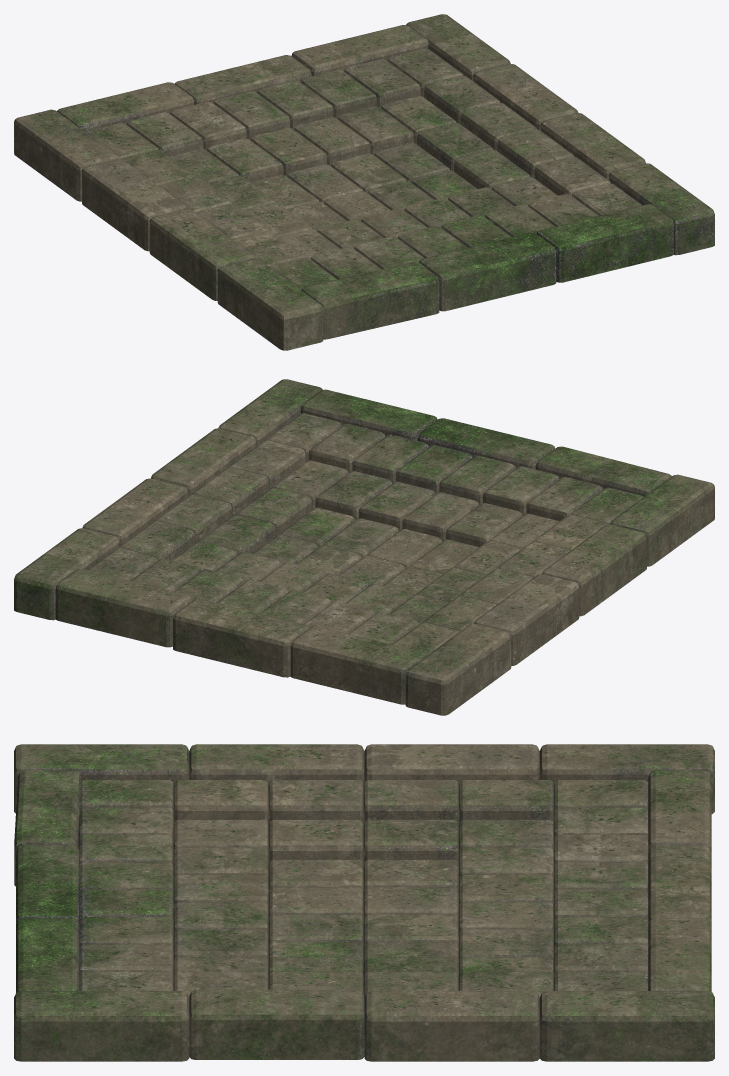
The picture shows the model from 3 angles, top to bottom: view 1: azimuth 30°, elevation 25°; view 2: azimuth 150°, elevation 25°; view 3: azimuth 270°, elevation 25°; orthographic projection. The views are drawn at different scales.
Parts seen in each view (by area): view 1: Cube.000; view 2: Cube.000; view 3: Cube.000.
Boxes of the visible parts, x1,y1,x2,y2 form: Cube.000: (14, 14, 714, 350); Cube.000: (14, 379, 714, 715); Cube.000: (14, 744, 714, 1061).
Bounding box in the file's own units: 171 × 23.47 × 185.
1 material, 1 textured.
